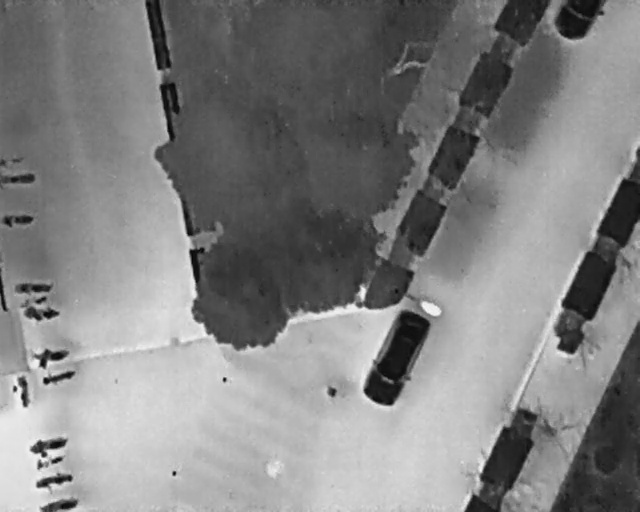Bicycle: (26, 432, 70, 460), (33, 469, 75, 494), (30, 345, 70, 369), (30, 450, 67, 473), (38, 366, 78, 387), (13, 374, 33, 410), (16, 291, 49, 311), (23, 305, 60, 322), (13, 281, 53, 295), (38, 497, 79, 510), (0, 172, 36, 184), (2, 214, 35, 226), (0, 156, 25, 167)
Car: (353, 301, 440, 414), (552, 0, 606, 41)
